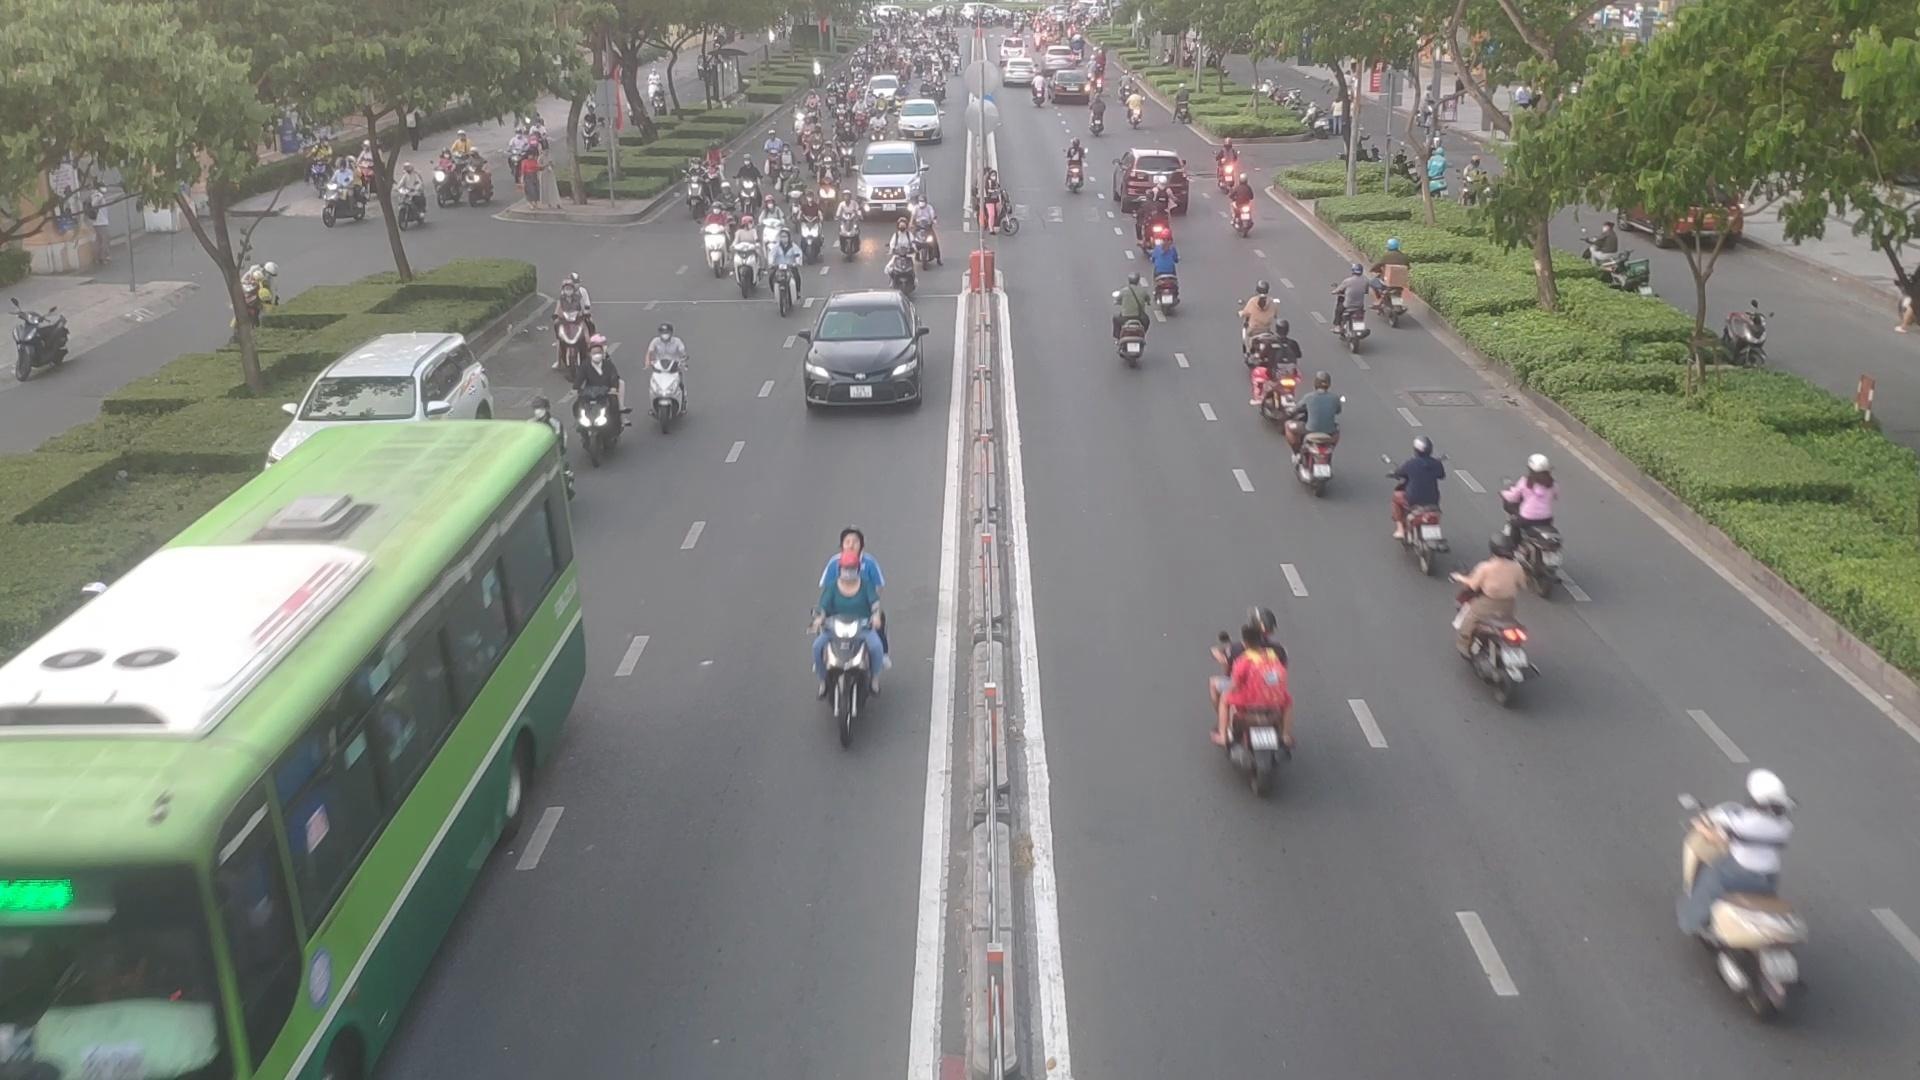car: (0, 410, 579, 1080), (793, 293, 928, 410), (1114, 146, 1187, 207)
motorbike: (1668, 756, 1815, 1009), (800, 535, 898, 752), (1204, 637, 1308, 795), (1452, 547, 1544, 702), (1391, 438, 1464, 568), (1499, 440, 1567, 570), (568, 330, 630, 467), (1276, 375, 1345, 495), (641, 324, 695, 426), (1236, 290, 1299, 373), (1102, 281, 1156, 372), (1373, 239, 1414, 334), (1332, 266, 1378, 349), (897, 204, 945, 274), (973, 175, 1022, 241), (1149, 243, 1187, 315), (728, 239, 771, 301), (1228, 173, 1262, 237), (1055, 141, 1096, 193)
